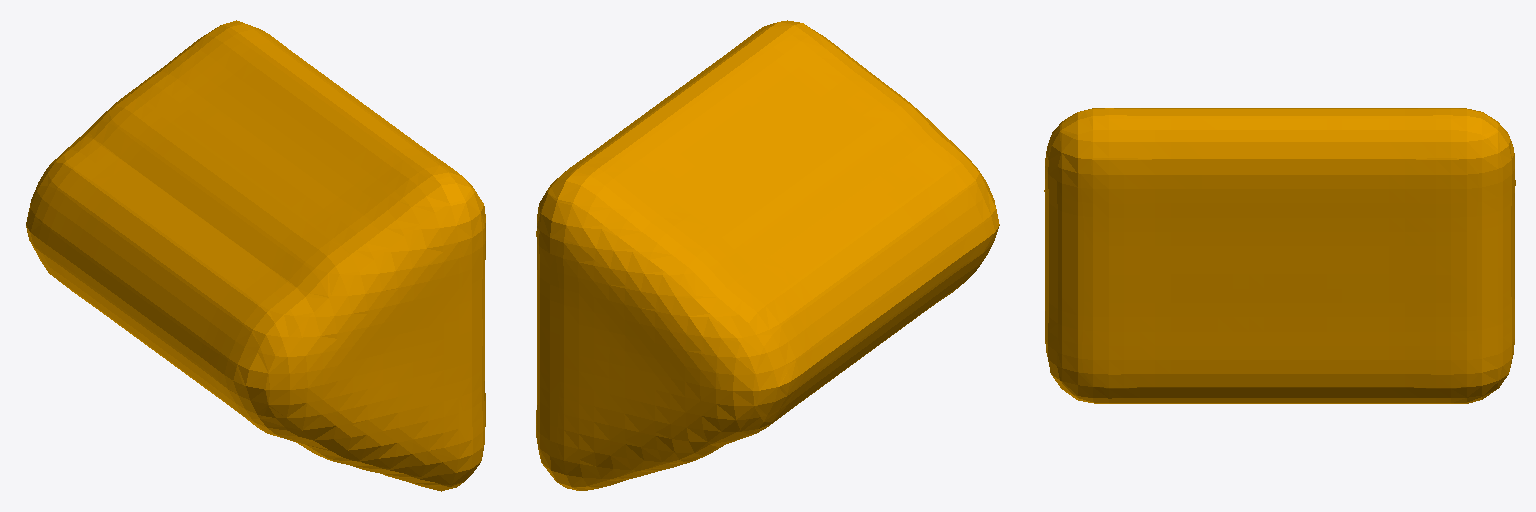
The robot description file, URDF, robot "Q04_2":
<?xml version="1.0"?>
<robot name="Q04_2">
  <link name="base_link">
    <visual>
      <geometry>
        <mesh filename="../../../../meshes/egad/train/Q04_2.obj" />
      </geometry>
    </visual>
  </link>
</robot>

--- Render facts (derived) ---
3 views of the same robot in one strip: view 1: azimuth 30°, elevation 25°; view 2: azimuth 150°, elevation 25°; view 3: azimuth 270°, elevation 25° (orthographic).
Model Q04_2 with 1 links and 0 joints (none), rooted at base_link, posed all joints at 0.
Visible links, largest first — view 1: base_link; view 2: base_link; view 3: base_link.
Boxes of the visible links, bbox=[...] form: base_link: bbox=[26, 20, 485, 491]; base_link: bbox=[536, 20, 999, 490]; base_link: bbox=[1044, 108, 1515, 403].
Size in the robot's own frame: 0.0422 by 0.075 by 0.0508 metres.
Meshes: 1 distinct files referenced, 1 mesh visuals loaded (1 OBJ).